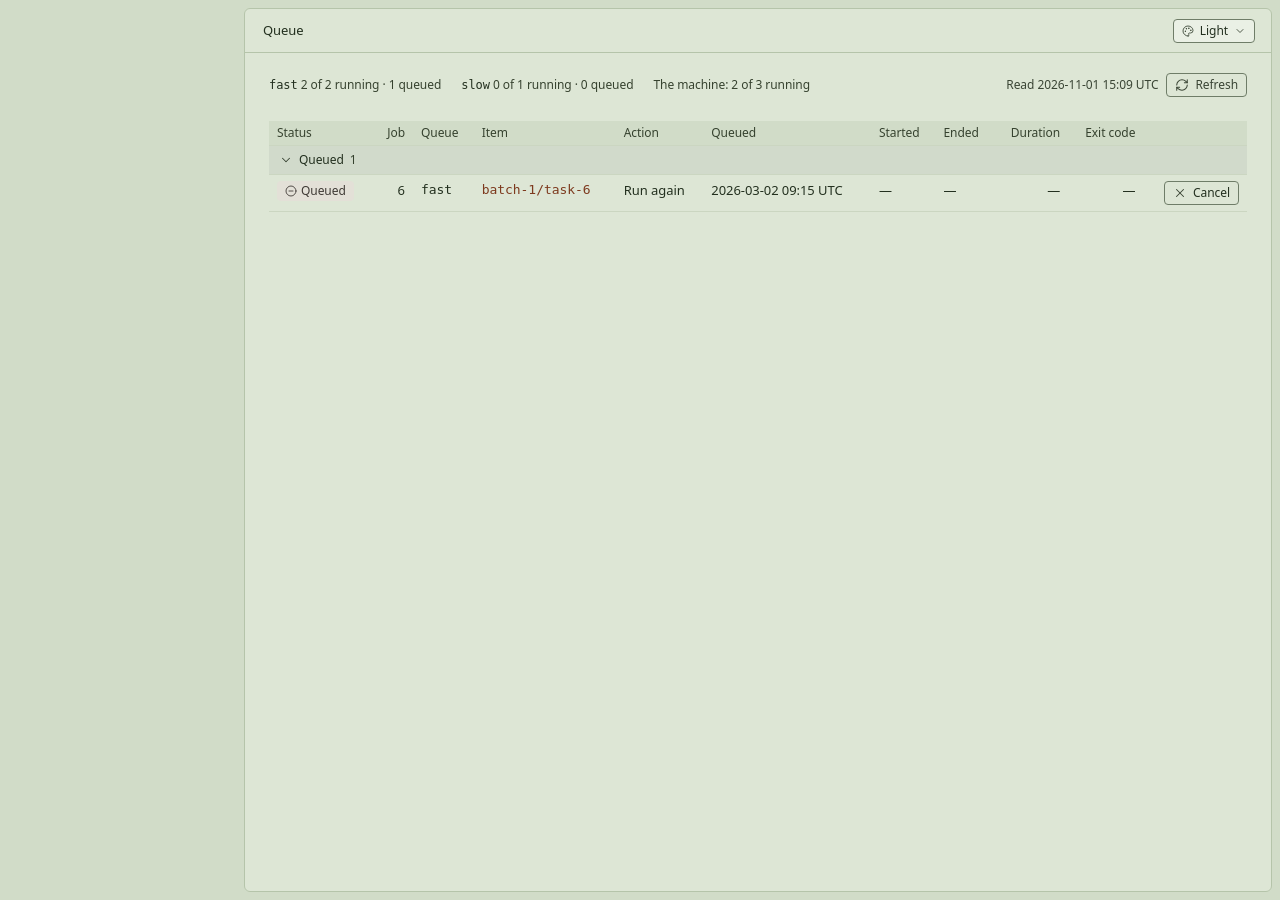
the queue page › gives the focus back to Cancel when told to keep
The image size is (1280, 900).
Click the button "Cancel" at [1202, 193], box [1164,181,1239,205]
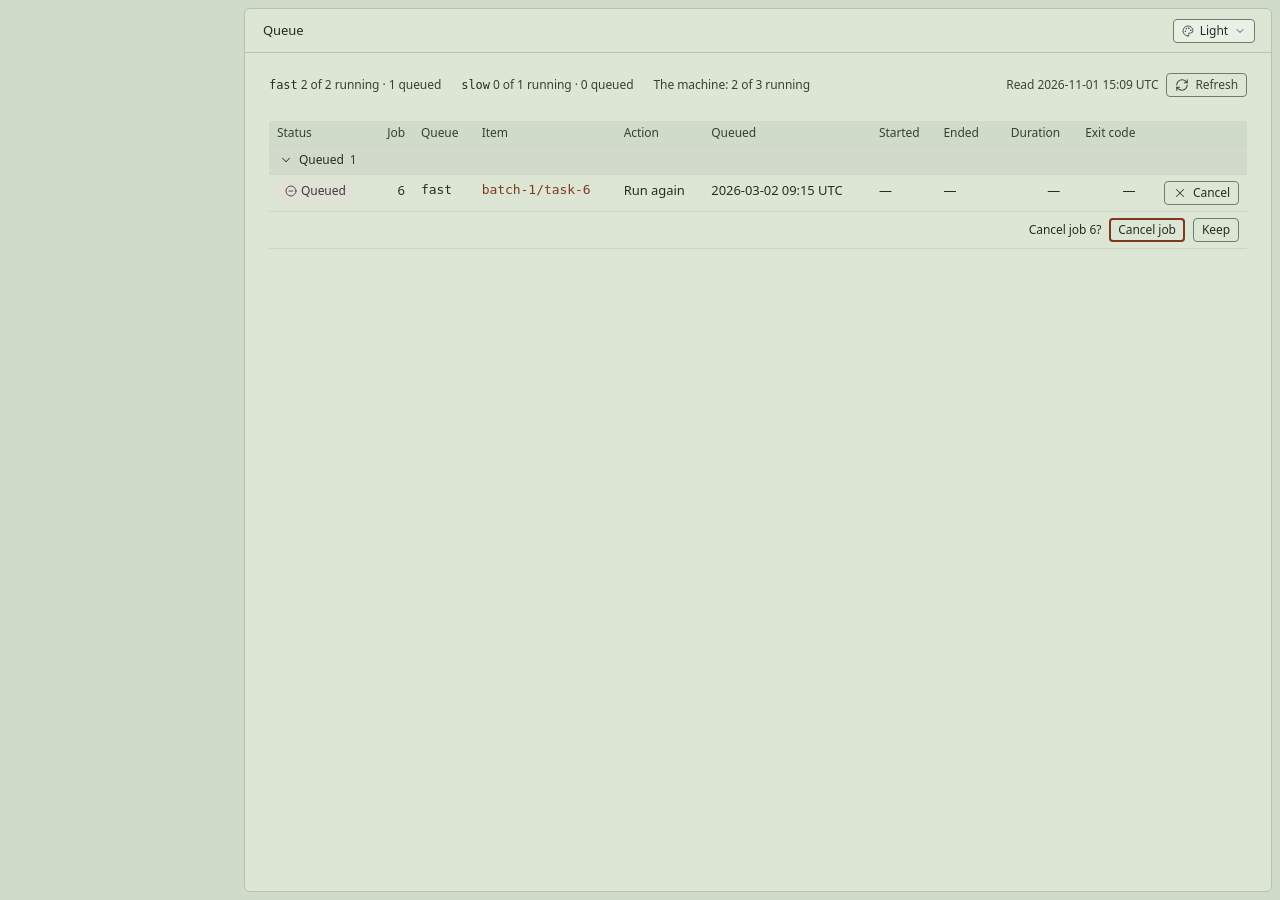
Click the button "Keep" at [1216, 230], box [1193,218,1239,242]
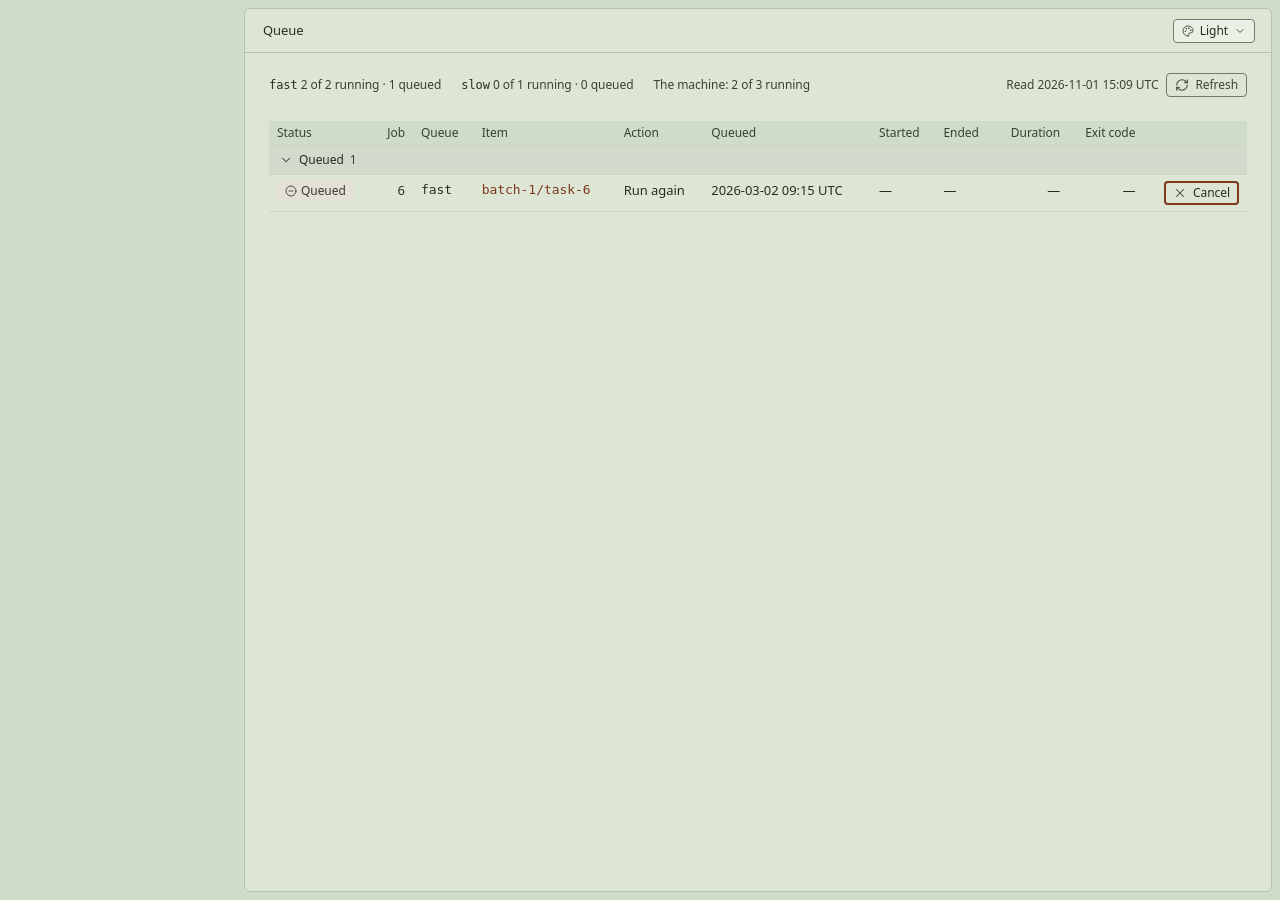
expect the text "Cancel job 6?" is gone: met
